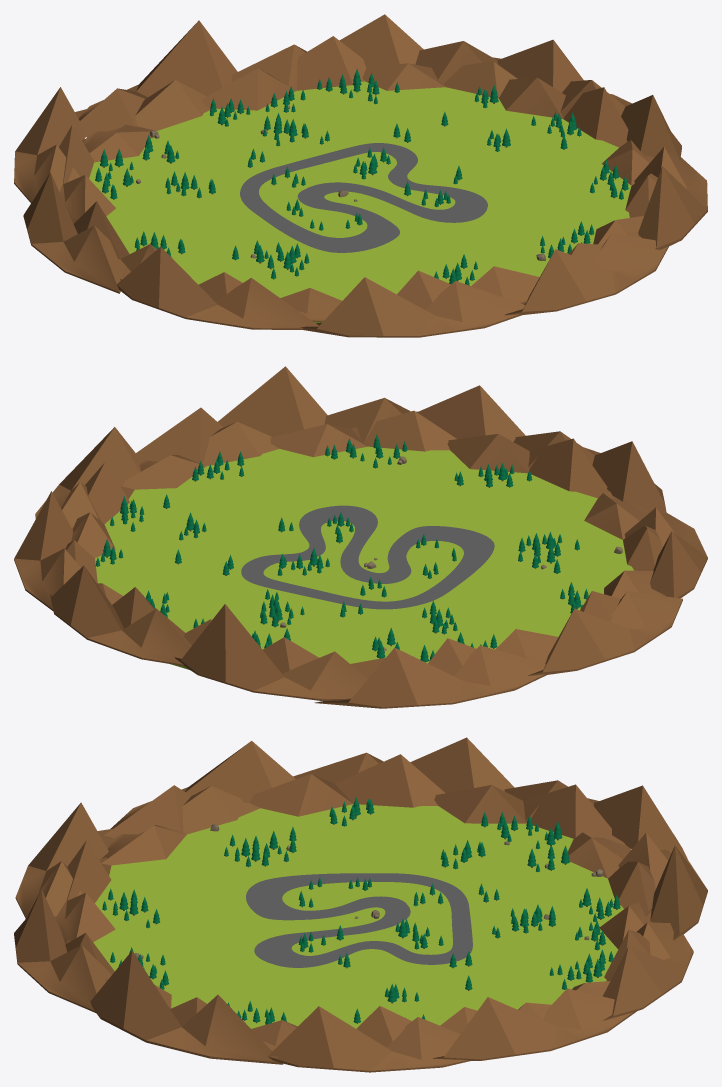
The model's file is map.fbx.
3 renders of one model, top to bottom at view 1: azimuth 30°, elevation 25°; view 2: azimuth 150°, elevation 25°; view 3: azimuth 270°, elevation 25°, orthographic. The views are drawn at different scales.
Parts seen in each view (by area): view 1: Cylinder, Curve, pCube49.014, pCube49.013, pCube49.015, pCube49.020, pCube49.012, pCube49.016, pCube49.002, pCube49.004, pCube49.011, pCube49.001 (+10 smaller); view 2: Cylinder, Curve, pCube49.020, pCube49.011, pCube49.016, pCube49.012, pCube49.019, pCube49.007, pCube49.015, pCube49.006, pCube49.018, pCube49.014 (+10 smaller); view 3: Cylinder, Curve, pCube49.016, pCube49.017, pCube49.018, pCube49.009, pCube49.015, pCube49.010, pCube49.013, pCube49.019, pCube49.014, pCube49.008 (+10 smaller).
Part boxes in pixels (<box>): Cylinder: <box>89,81,631,323</box>; Curve: <box>240,143,487,252</box>; pCube49.014: <box>300,277,525,337</box>; pCube49.013: <box>117,246,318,329</box>; pCube49.015: <box>505,233,668,315</box>; pCube49.020: <box>78,20,237,137</box>; pCube49.012: <box>23,172,121,293</box>; pCube49.016: <box>634,146,707,249</box>; pCube49.002: <box>202,36,366,110</box>; pCube49.004: <box>499,77,628,147</box>; pCube49.011: <box>14,87,86,202</box>; pCube49.001: <box>84,80,210,162</box>; Cylinder: <box>95,446,633,669</box>; Curve: <box>241,505,494,609</box>; pCube49.020: <box>174,604,367,700</box>; pCube49.011: <box>314,645,546,708</box>; pCube49.016: <box>136,366,327,464</box>; pCube49.012: <box>528,591,682,675</box>; pCube49.019: <box>50,565,191,666</box>; pCube49.007: <box>447,433,613,498</box>; pCube49.015: <box>324,385,525,442</box>; pCube49.006: <box>270,410,456,457</box>; pCube49.018: <box>14,491,80,610</box>; pCube49.014: <box>513,431,666,513</box>; Cylinder: <box>93,804,623,1028</box>; Curve: <box>246,873,472,967</box>; pCube49.016: <box>90,950,283,1064</box>; pCube49.017: <box>267,1006,469,1072</box>; pCube49.018: <box>433,988,636,1060</box>; pCube49.009: <box>249,754,445,816</box>; pCube49.015: <box>14,889,111,1012</box>; pCube49.010: <box>434,784,625,845</box>; pCube49.013: <box>104,741,295,837</box>; pCube49.019: <box>603,922,693,1020</box>; pCube49.014: <box>15,802,113,918</box>; pCube49.008: <box>101,786,260,865</box>.
Size of the model in its own units: 13358 by 1647 by 12830.
